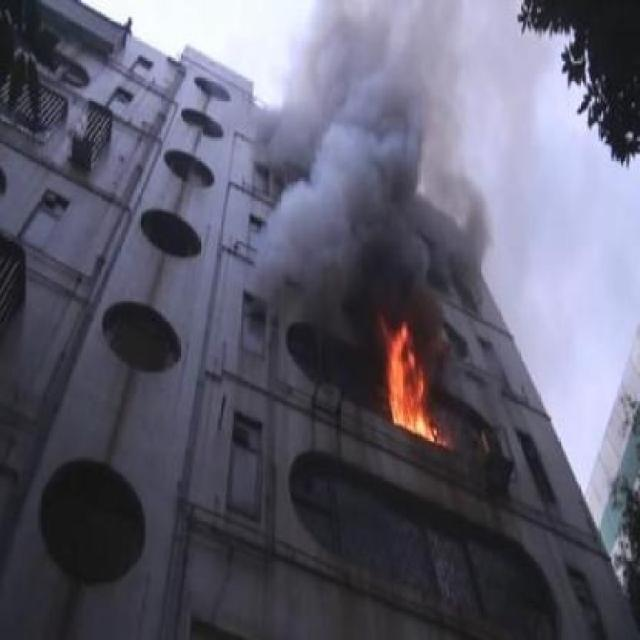Fire: (367, 316, 447, 452)
Smoke: (265, 0, 518, 311)
